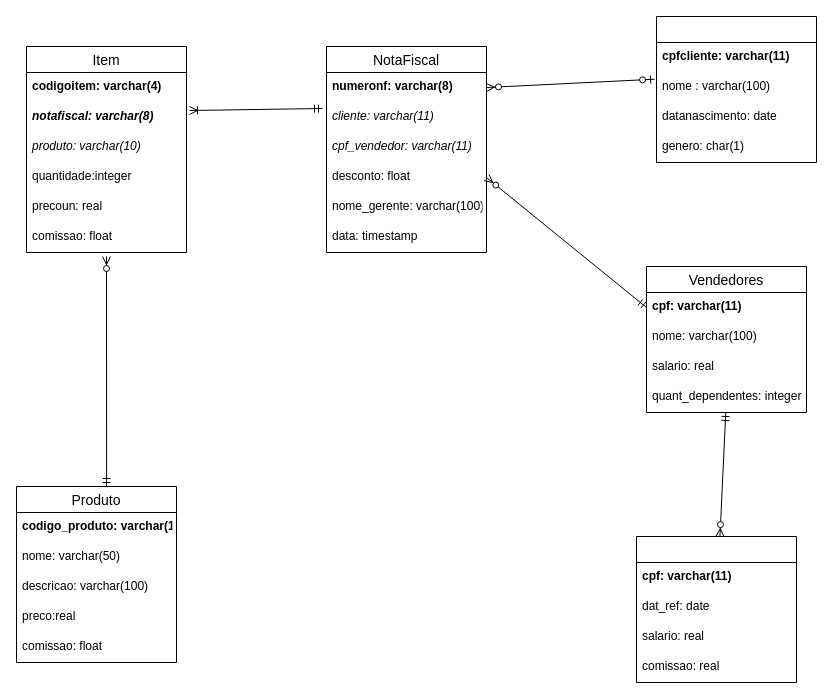
Some shapes in this 833 by 699 pixel diagram are drawn without their labels. Each missing label, with the box of its shape:
Clientes: (656, 16, 816, 162)
contracheque: (636, 536, 796, 682)
